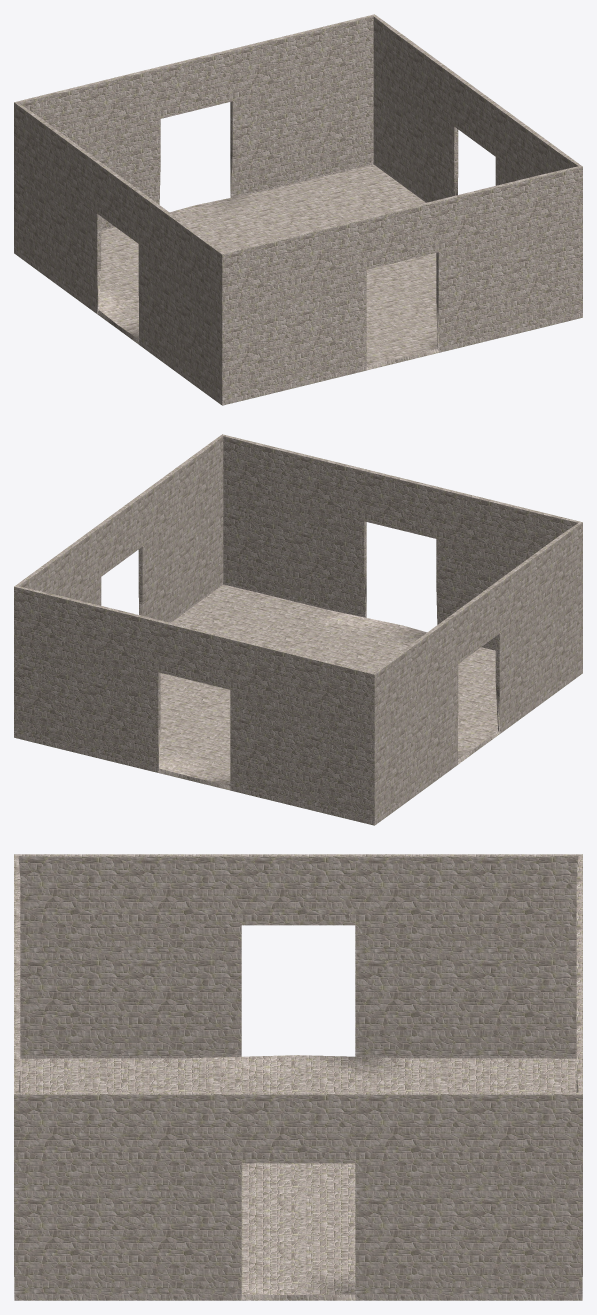
The model's file is Tile_room.FBX.
The picture shows the model from 3 angles, top to bottom: view 1: azimuth 30°, elevation 25°; view 2: azimuth 150°, elevation 25°; view 3: azimuth 270°, elevation 25°; orthographic projection. The views are drawn at different scales.
Visible parts, largest first — view 1: Box001; view 2: Box001; view 3: Box001.
Part boxes in pixels (bbox=[...]): Box001: bbox=[14, 14, 582, 405]; Box001: bbox=[14, 434, 582, 825]; Box001: bbox=[14, 854, 582, 1300].
Size of the model in its own units: 1002 by 401 by 1002.
Materials: 1 (1 with a texture image).
